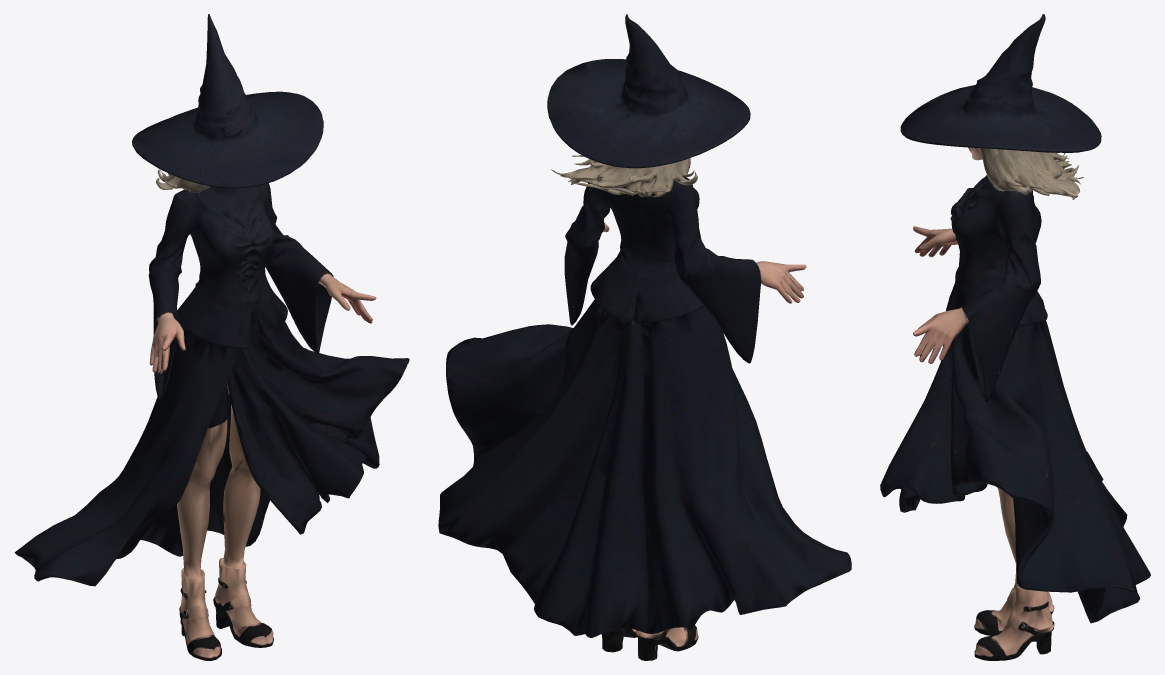
The model's file is witch.glb.
The picture shows the model from 3 angles, left to right: view 1: azimuth 30°, elevation 25°; view 2: azimuth 150°, elevation 25°; view 3: azimuth 270°, elevation 25°; orthographic projection. The views are drawn at different scales.
Bounding box in the file's own units: 1.23 × 1.9 × 0.7408.
Materials: 1 (1 with a texture image).
